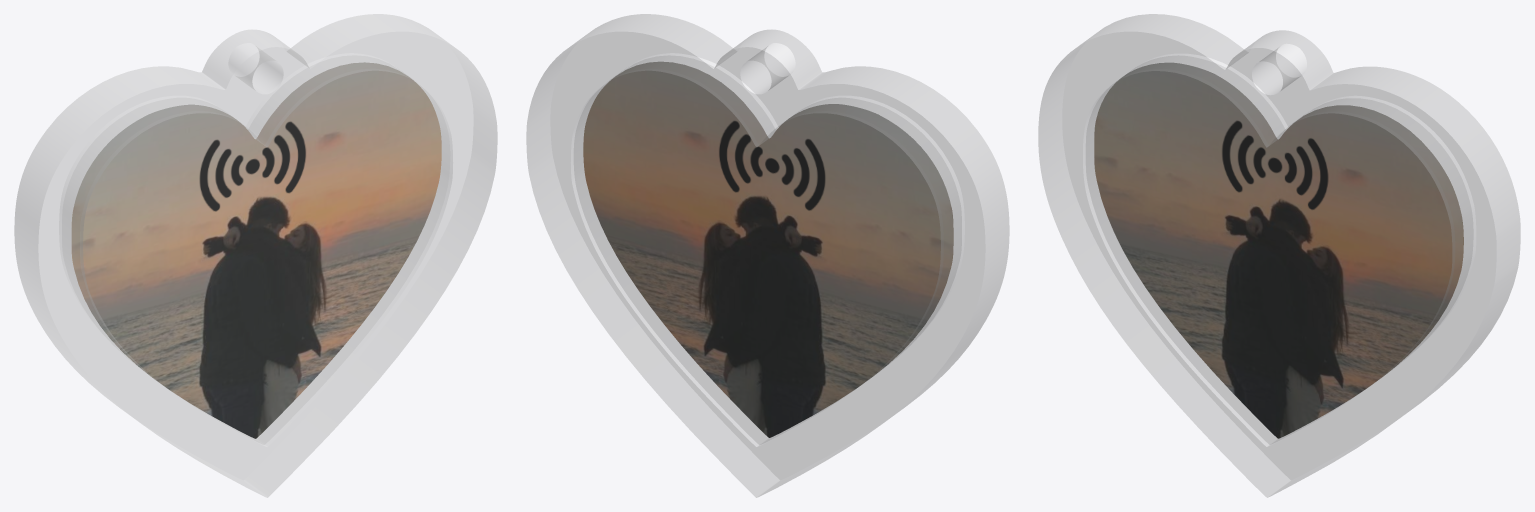
File: Llavero Corazon.glb
The picture shows the model from 3 angles, left to right: view 1: azimuth 30°, elevation 25°; view 2: azimuth 150°, elevation 25°; view 3: azimuth 330°, elevation 25°; orthographic projection.
Visible parts, largest first — view 1: path2.003, path2.002, path1; view 2: path2.003, path2.001, path1; view 3: path2.003, path2.002, path1.
Boxes of the visible parts, bbox=[...] form: path2.003: bbox=[71, 62, 441, 438]; path2.002: bbox=[80, 70, 449, 444]; path1: bbox=[14, 14, 497, 497]; path2.003: bbox=[583, 61, 953, 437]; path2.001: bbox=[574, 70, 943, 444]; path1: bbox=[526, 14, 1009, 497]; path2.003: bbox=[1094, 62, 1463, 438]; path2.002: bbox=[1086, 71, 1454, 444]; path1: bbox=[1038, 14, 1520, 497].
Bounding box in the file's own units: 20.4 × 19.09 × 1.85.
Materials: 3 (1 with a texture image).
